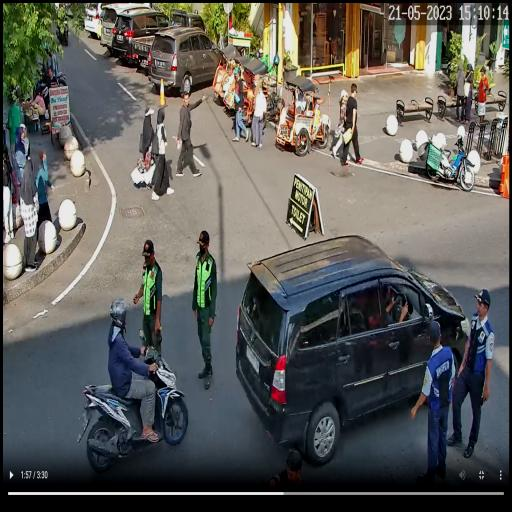mobil: (238, 231, 464, 460), (149, 29, 222, 99), (133, 14, 205, 72), (113, 9, 171, 68)
motor: (82, 329, 188, 473)
